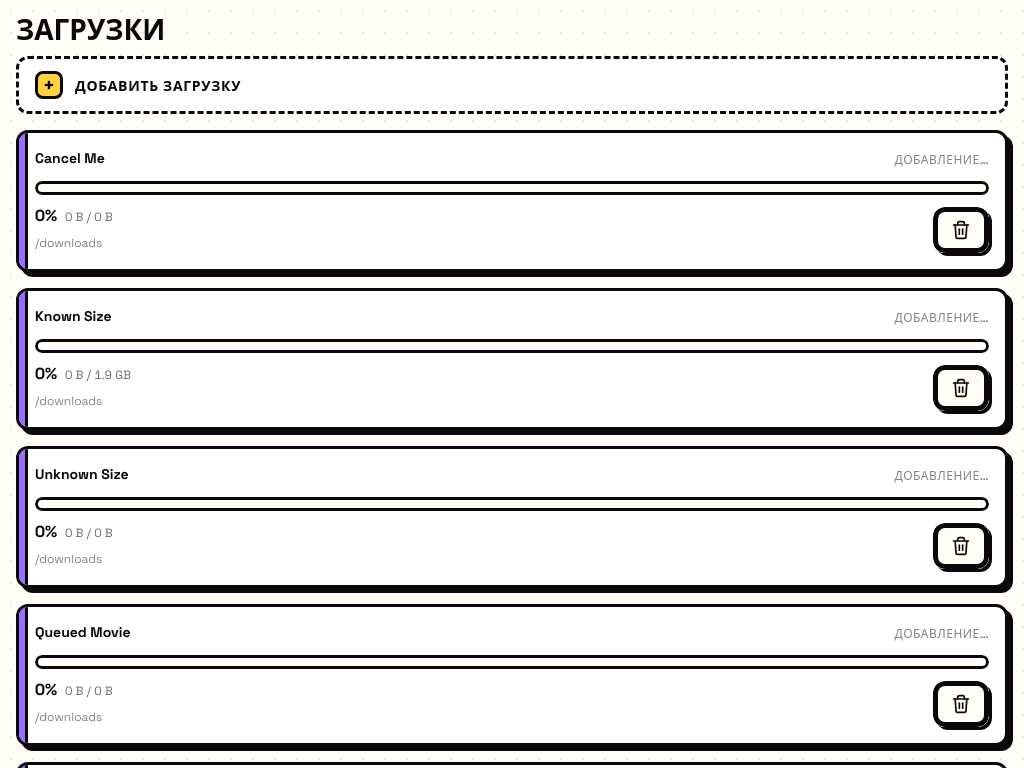
DownloadsTab — optimistic placeholder + delete feedback (#269) › pending card has a working delete that cancels by the real DSM id
Two-tap: arm, then confirm.
Click the 1st button with class "action-seg--delete" at (961, 230), box [933,207,989,253]
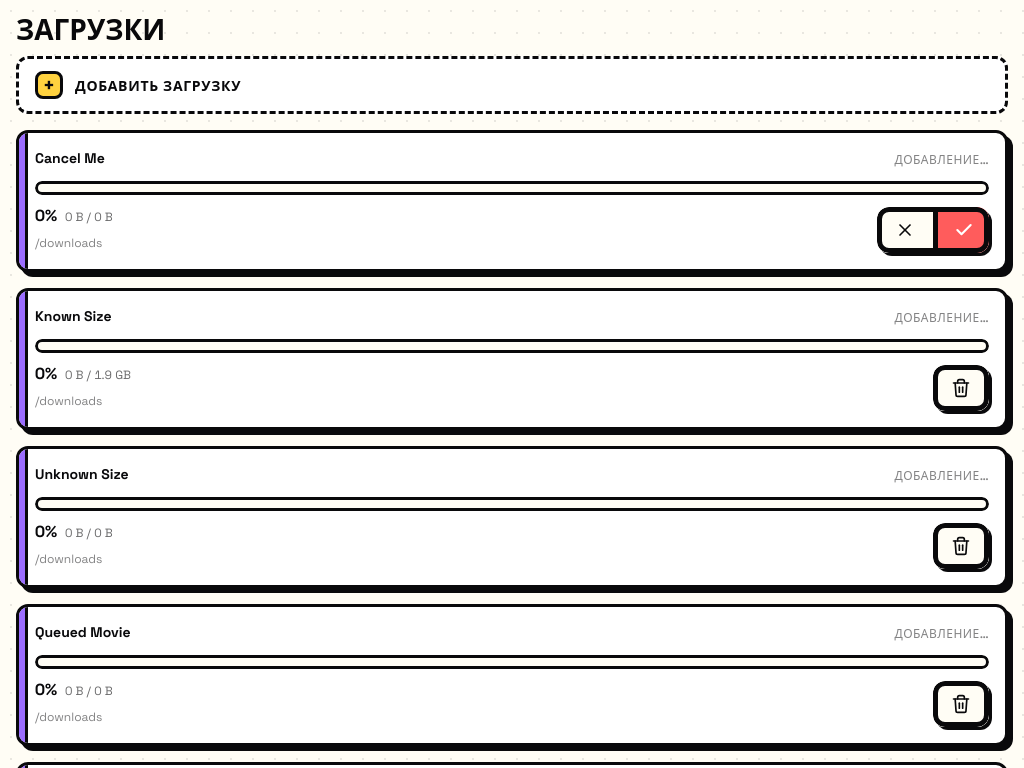
Click the button with test id "btn-confirm-delete-" at (961, 230), box [933,207,989,253]
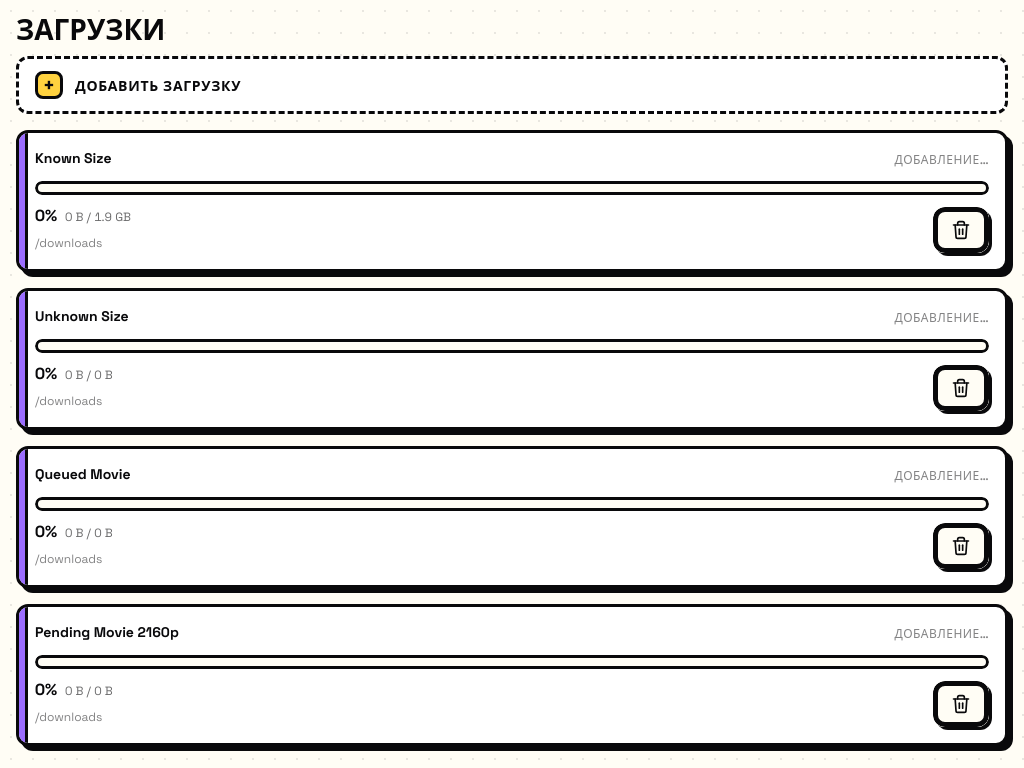
Expected: the text "Cancel Me" is gone
